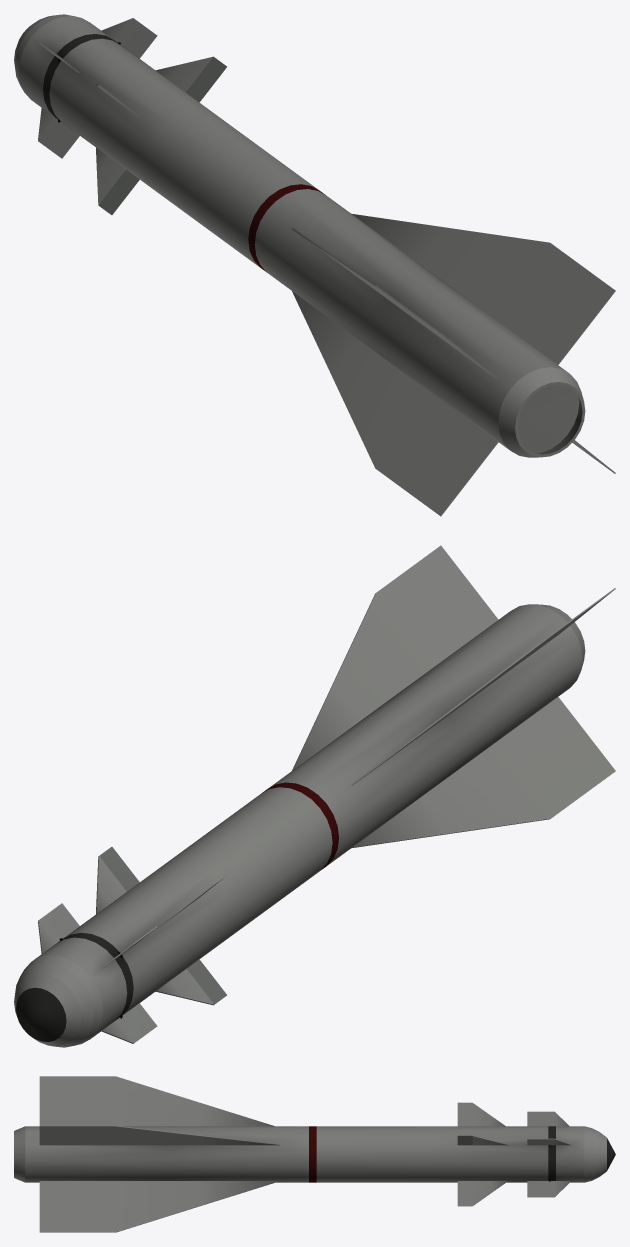
3 views of the same model, one above another, from view 1: azimuth 30°, elevation 25°; view 2: azimuth 150°, elevation 25°; view 3: azimuth 270°, elevation 25° (orthographic). The views are drawn at different scales.
Visible parts, largest first — view 1: body|PartMaterialClone; view 2: body|PartMaterialClone; view 3: body|PartMaterialClone.
Boxes of the visible parts, box(x1,y1,x2,y2) form: body|PartMaterialClone: box(14, 14, 615, 516); body|PartMaterialClone: box(14, 545, 615, 1047); body|PartMaterialClone: box(14, 1076, 615, 1232).
Bounding box in the file's own units: 0.7262 × 0.7262 × 3.7.
1 material, 1 textured.
